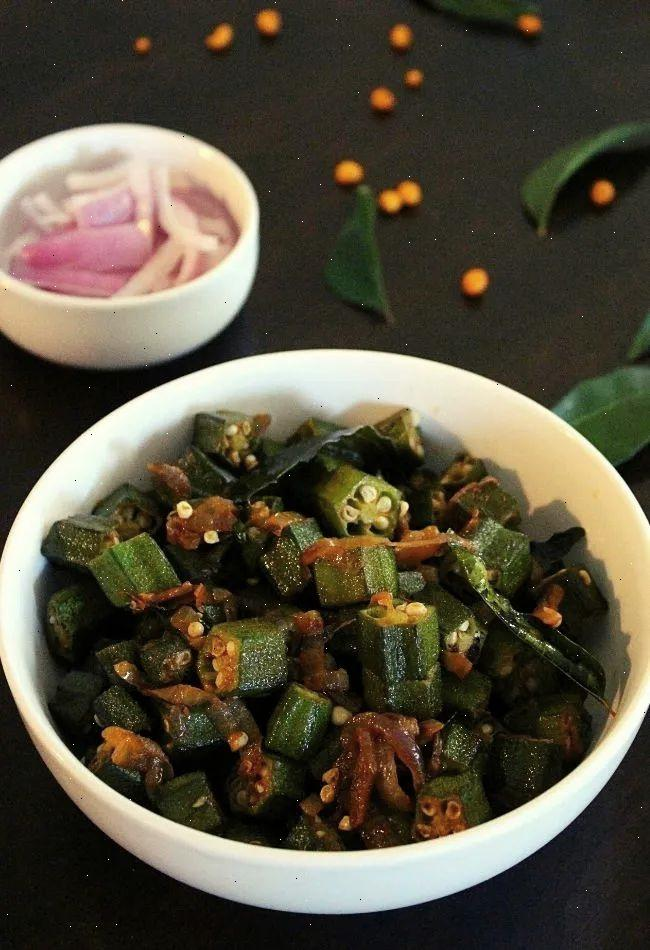bhindi: (141, 406, 523, 837)
